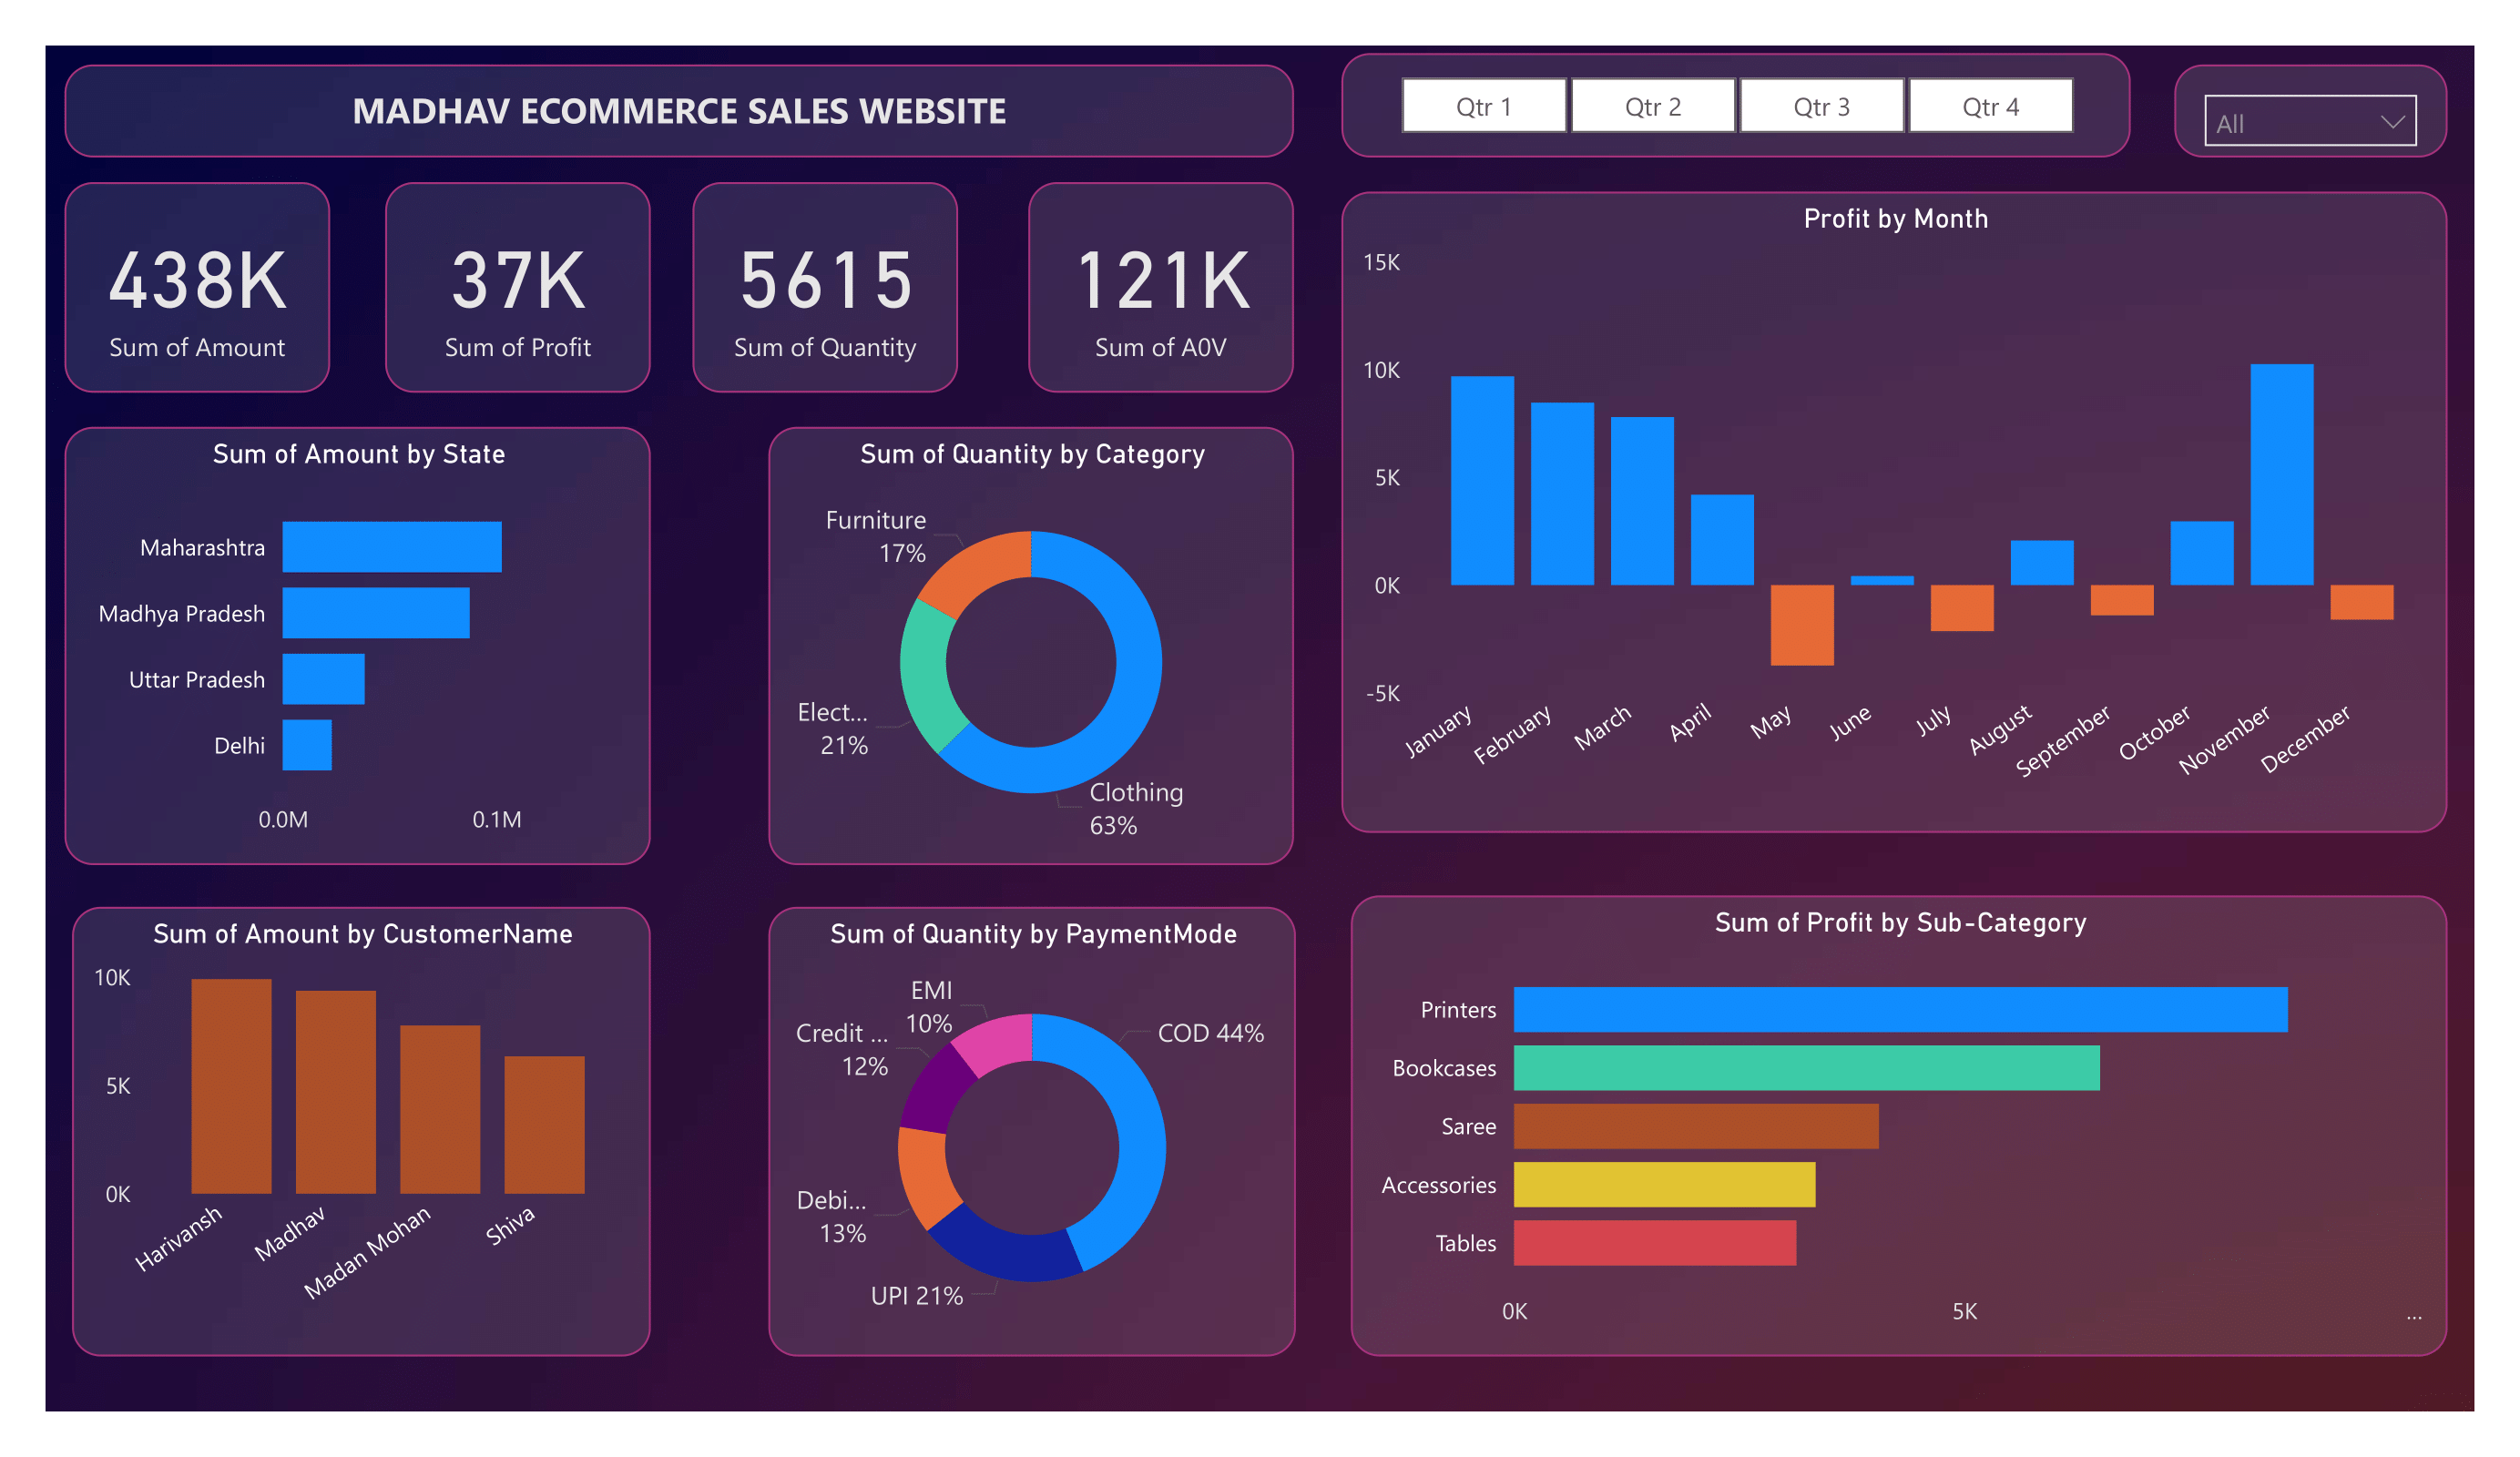

Layout of this report page (visuals, bound fields, positions):
{"tool":"powerbi","page":{"name":"Page 1","canvas":[1280,720],"ordinal":0},"visuals":[{"type":"textbox","box":[9.7,9.7,647.9,49.5],"z":0},{"type":"columnChart","title":"Profit by Month","fields":{"Y":["Details.Profit"],"Category":["Orders.Order Date.Variation.Date Hierarchy.Month"]},"box":[682.8,77.2,582.7,337.8],"z":1000},{"type":"barChart","fields":{"Category":["Details.Sub-Category"],"Y":["Details.Profit"]},"box":[687.7,447.6,577.9,243.7],"z":2000},{"type":"donutChart","fields":{"Category":["Details.Category"],"Y":["Details.Quantity"]},"box":[381.2,201.5,276.3,230.4],"z":3000},{"type":"donutChart","fields":{"Y":["Details.Quantity"],"Category":["Details.PaymentMode"]},"box":[381.2,453.6,277.5,237.7],"z":4000},{"type":"card","fields":{"Values":["Details.Amount"]},"box":[9.7,72.4,139.9,111],"z":5000},{"type":"card","fields":{"Values":["Details.Profit"]},"box":[178.6,72.4,139.9,111],"z":6000},{"type":"card","fields":{"Values":["Details.Quantity"]},"box":[341.4,72.4,139.9,111],"z":7000},{"type":"card","fields":{"Values":["Details.A0V"]},"box":[517.6,72.4,139.9,111],"z":8000},{"type":"barChart","fields":{"Category":["Orders.State"],"Y":["Details.Amount"]},"box":[9.7,201.5,308.8,230.4],"z":9000},{"type":"columnChart","fields":{"Category":["Orders.CustomerName"],"Y":["Details.Amount"]},"box":[14.5,453.6,304,237.7],"z":10000},{"type":"slicer","fields":{"Values":["Orders.Order Date.Variation.Date Hierarchy.Quarter"]},"box":[682.8,3.6,416.2,55.5],"z":11000},{"type":"slicer","fields":{"Values":["Orders.State"]},"box":[1122,9.7,143.6,49.5],"z":12000}]}

Visuals, with their boxes on the page's 1280x720 design canvas (x1, y1, x2, y2). These are canvas units, not pixel positions in the 2520x1457 screenshot, which may show the page scaled, cropped or inside an application window:
textbox: 10:10:658:59
"Profit by Month" columnChart: 683:77:1266:415
barChart - Details.Sub-Category x Details.Profit: 688:448:1266:691
donutChart - Details.Category x Details.Quantity: 381:202:658:432
donutChart - Details.Quantity x Details.PaymentMode: 381:454:659:691
card - Details.Amount: 10:72:150:183
card - Details.Profit: 179:72:318:183
card - Details.Quantity: 341:72:481:183
card - Details.A0V: 518:72:658:183
barChart - Orders.State x Details.Amount: 10:202:318:432
columnChart - Orders.CustomerName x Details.Amount: 14:454:318:691
slicer - Orders.Order Date.Variation.Date Hierarchy.Quarter: 683:4:1099:59
slicer - Orders.State: 1122:10:1266:59
